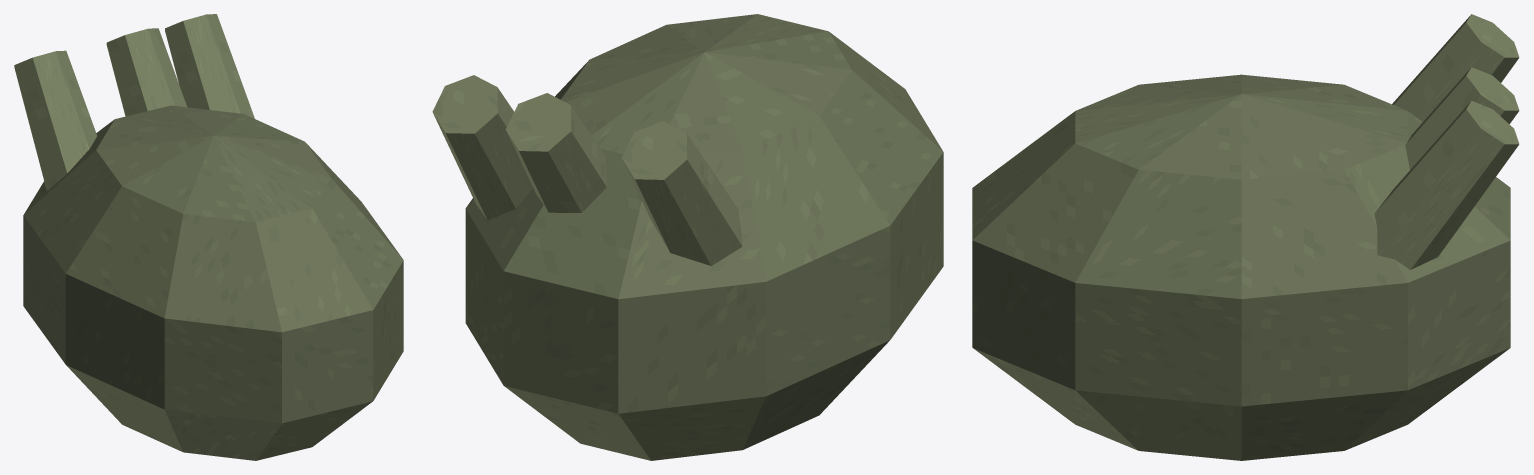
File: jabberwock_heart.glb
The picture shows the model from 3 angles, left to right: view 1: azimuth 30°, elevation 25°; view 2: azimuth 150°, elevation 25°; view 3: azimuth 270°, elevation 25°; orthographic projection. The views are drawn at different scales.
Parts seen in each view (by area): view 1: block_muscular body, block_vessel (×3); view 2: block_muscular body, block_vessel (×3); view 3: block_muscular body, block_vessel (×3).
Part boxes in pixels (left/top/right/bottom): block_muscular body: left=23, top=105, right=403, bottom=460; block_vessel (×3): left=14, top=14, right=254, bottom=190; block_muscular body: left=465, top=14, right=943, bottom=460; block_vessel (×3): left=432, top=75, right=742, bottom=265; block_muscular body: left=972, top=74, right=1510, bottom=460; block_vessel (×3): left=1374, top=14, right=1519, bottom=269.
Bounding box in the file's own units: 0.1332 × 0.1399 × 0.181.
Materials: 1 (1 with a texture image).
